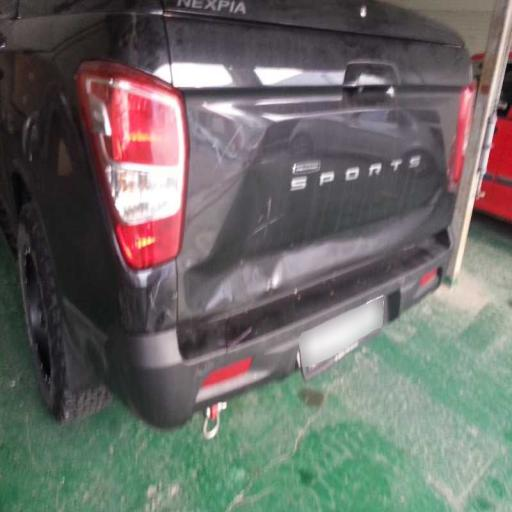dent: (95, 57, 381, 323)
scratch: (212, 137, 310, 358)
